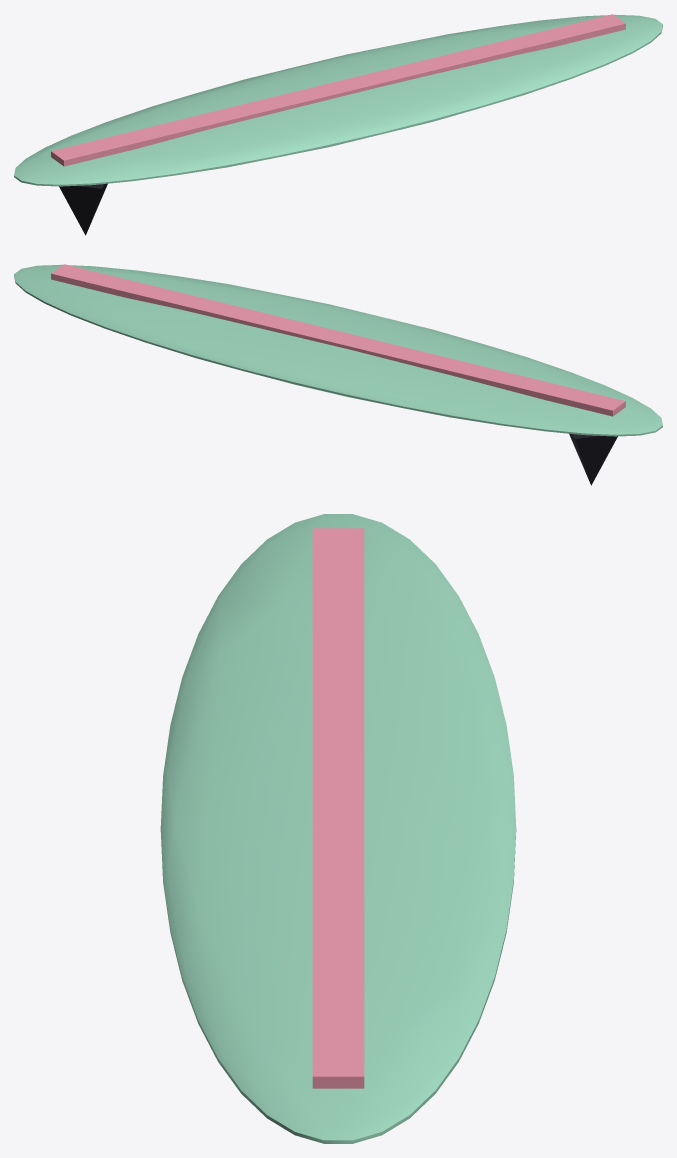
Rendered from surfboard.glb.
3 views of the same model, one above another, from view 1: azimuth 30°, elevation 25°; view 2: azimuth 150°, elevation 25°; view 3: azimuth 270°, elevation 25° (orthographic). The views are drawn at different scales.
Visible parts, largest first — view 1: surfboard; view 2: surfboard; view 3: surfboard.
Boxes of the visible parts, <box> form: surfboard: <box>14,14,662,235</box>; surfboard: <box>14,264,662,485</box>; surfboard: <box>160,514,516,1143</box>.
Size of the model in its own units: 2.28 by 0.295 by 0.548.
Materials: 1 (1 with a texture image).
